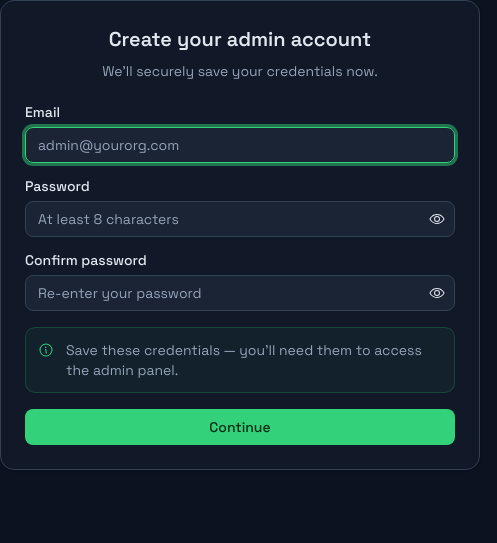
Test: CreateAccountStep › shows validation error when password is missing
This screenshot has width=497, height=543.
Type "admin@test.com" into the field labelled "Email". click: (240, 145)
box: [25,127,455,163]
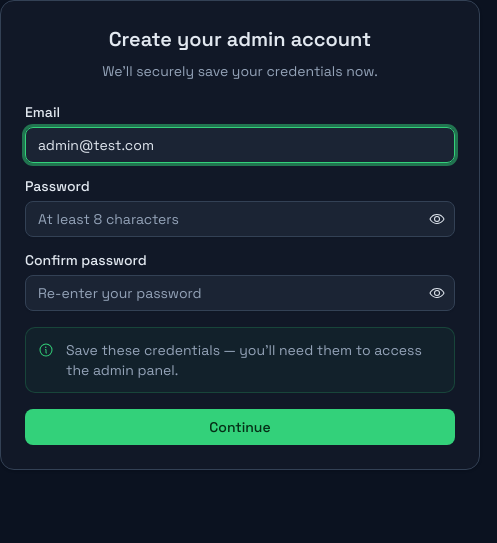
Type "password123" into the password field labelled "Confirm password". click: (240, 293)
box: [25,275,455,311]
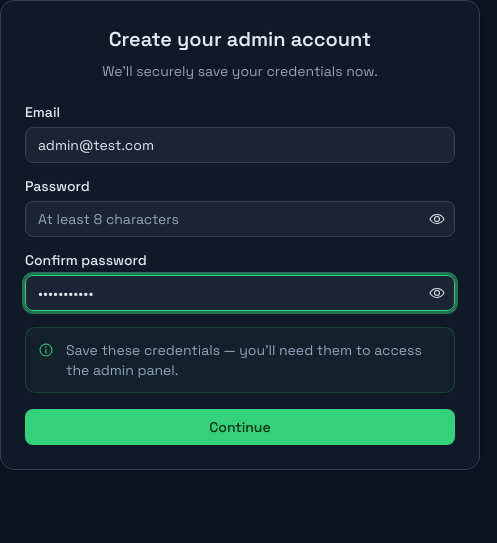
Click the button "Continue". click: (240, 427)
box: [25,409,455,445]
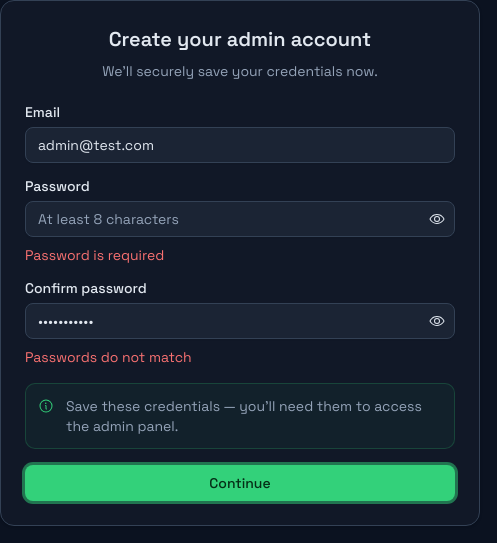
expect the text "Password is required" is shown: met, box [25,246,164,264]
